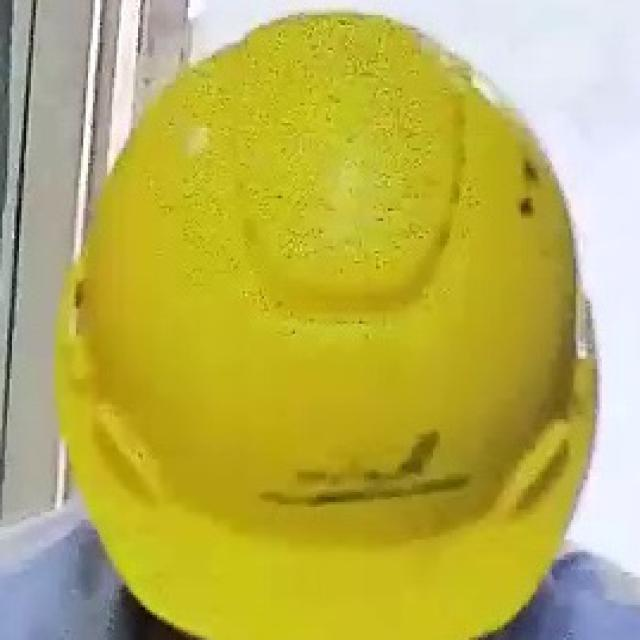yellow helmet: (24, 1, 597, 640)
